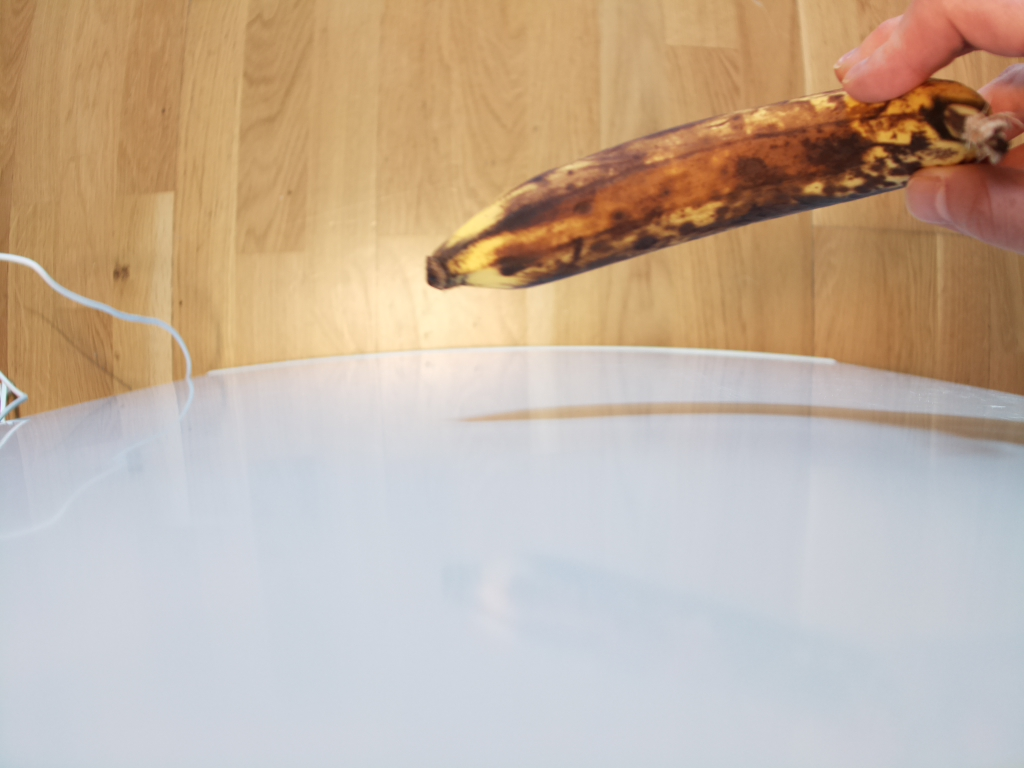banana-overripe: (424, 75, 1010, 291)
